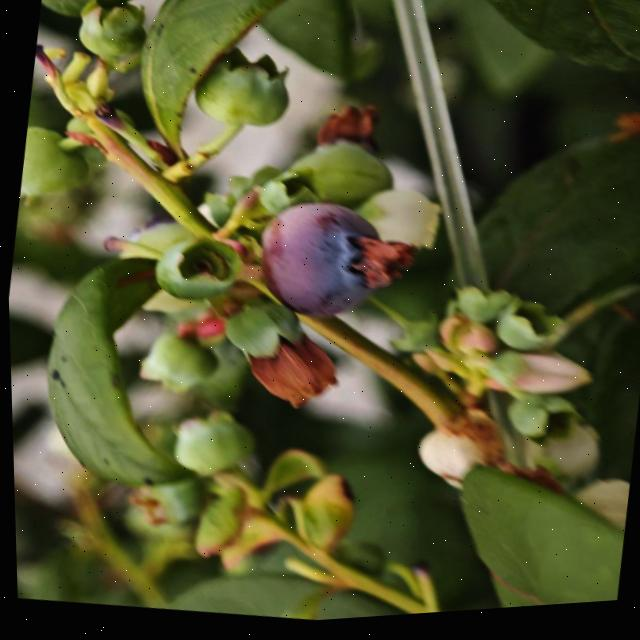Semi-RipeBlueBerry: (250, 193, 391, 331)
